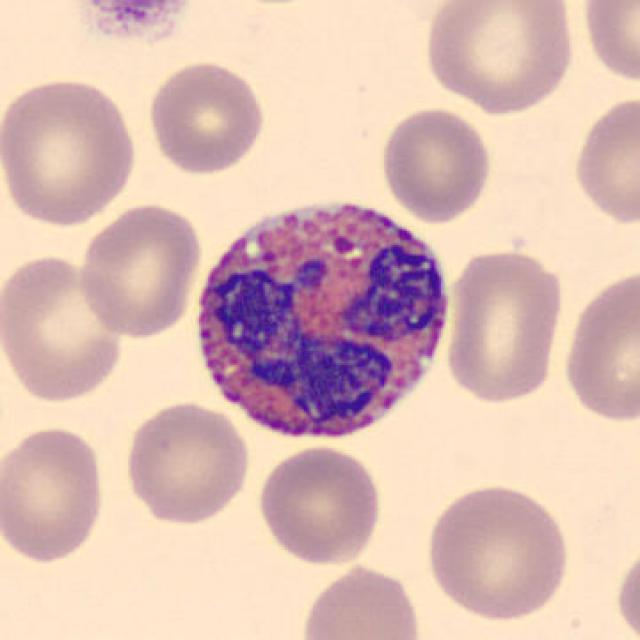Eosinophil: (183, 178, 461, 458)
Platelets: (66, 2, 206, 37)
RBC: (0, 72, 142, 229), (422, 480, 574, 624), (0, 248, 128, 406), (443, 245, 567, 406), (419, 0, 579, 116), (74, 200, 204, 340), (252, 442, 386, 570), (119, 399, 253, 527), (0, 421, 108, 565), (144, 58, 268, 176), (377, 104, 494, 224), (558, 264, 638, 426), (297, 560, 427, 640), (569, 92, 638, 229), (578, 0, 640, 86), (611, 536, 640, 640)
